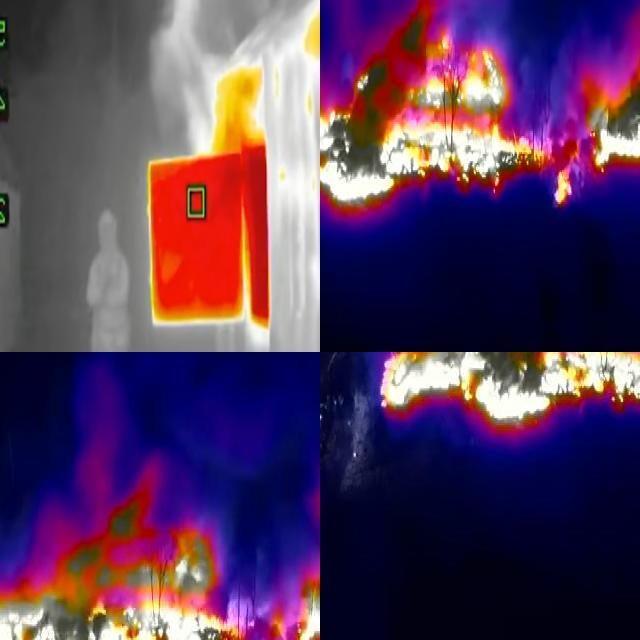fire: (321, 17, 580, 211), (1, 517, 292, 640), (380, 353, 640, 429), (587, 53, 640, 175), (209, 62, 269, 156), (296, 541, 321, 640)
